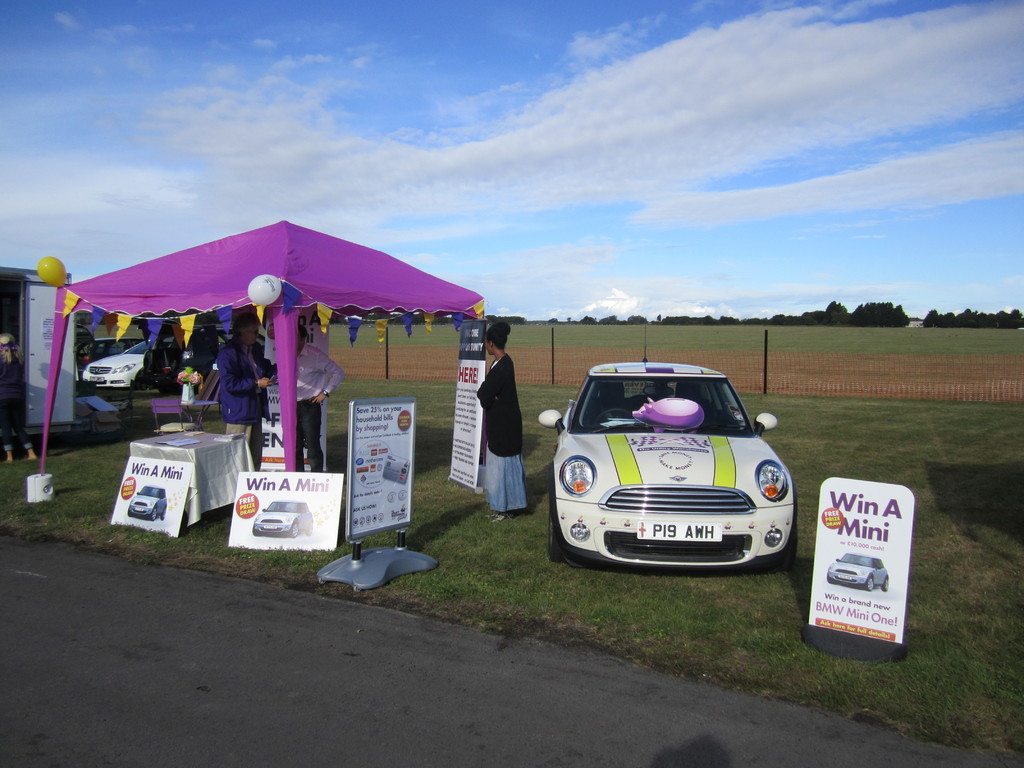mobil: (546, 363, 811, 592)
